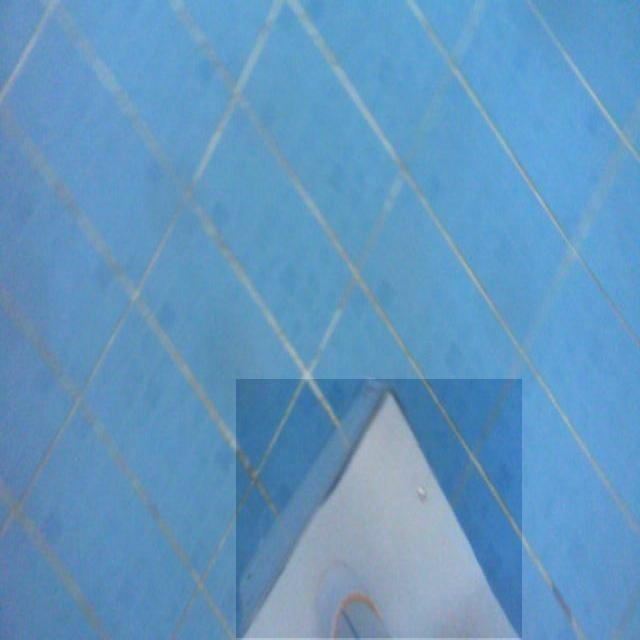Cube: (236, 379, 522, 638)
